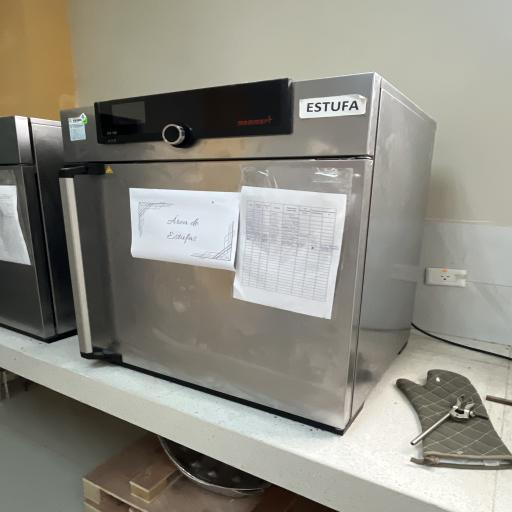Estufa_Memmert: (50, 69, 457, 441)
